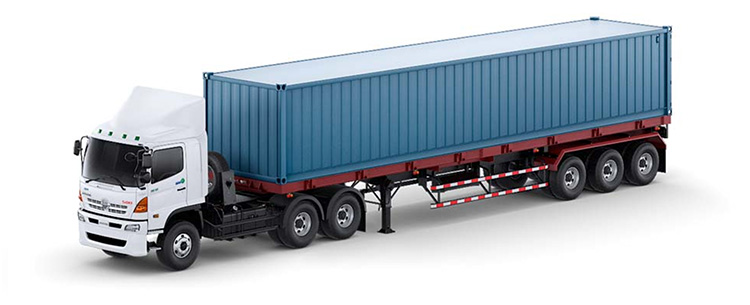truck: (77, 16, 673, 271)
